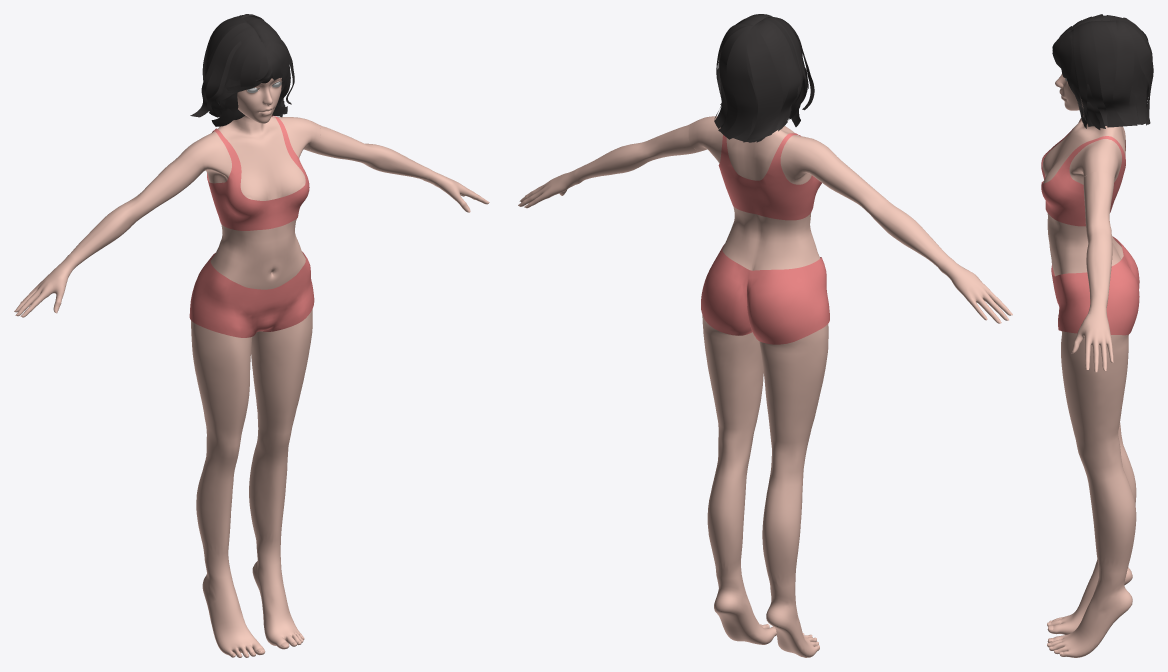
File: realistic_female_base_character_game_ready.glb
3 views of the same model, side by side, from view 1: azimuth 30°, elevation 25°; view 2: azimuth 150°, elevation 25°; view 3: azimuth 270°, elevation 25° (orthographic). The views are drawn at different scales.
Visible parts, largest first — view 1: polySurface2, Hair, shorts_shorts_0, shirt_shirt_0; view 2: polySurface2, Hair, shorts_shorts_0, shirt_shirt_0; view 3: polySurface2, Hair, shorts_shorts_0, shirt_shirt_0.
Boxes of the visible parts, x1=… form: polySurface2: x1=14, y1=78, x2=489, y2=657; Hair: x1=190, y1=14, x2=294, y2=126; shorts_shorts_0: x1=189, y1=251, x2=314, y2=337; shirt_shirt_0: x1=207, y1=115, x2=309, y2=230; polySurface2: x1=518, y1=116, x2=1012, y2=657; Hair: x1=714, y1=14, x2=814, y2=142; shorts_shorts_0: x1=701, y1=244, x2=829, y2=344; shirt_shirt_0: x1=718, y1=133, x2=821, y2=220; polySurface2: x1=1042, y1=73, x2=1136, y2=657; Hair: x1=1052, y1=14, x2=1153, y2=129; shorts_shorts_0: x1=1051, y1=236, x2=1139, y2=335; shirt_shirt_0: x1=1041, y1=120, x2=1125, y2=226.
Bounding box in the file's own units: 1.54 × 1.92 × 0.3132.
